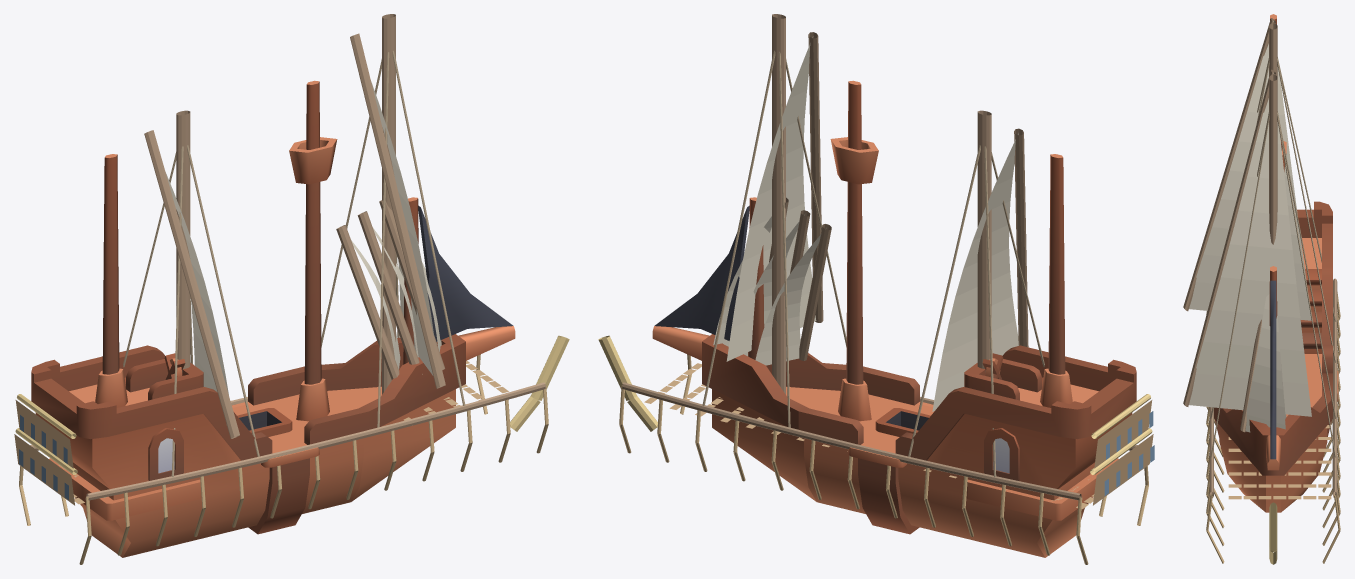
Rendered from chesapeake_schooner-custom.glb.
The picture shows the model from 3 angles, left to right: view 1: azimuth 30°, elevation 25°; view 2: azimuth 150°, elevation 25°; view 3: azimuth 270°, elevation 25°; orthographic projection. The views are drawn at different scales.
Visible parts, largest first — view 1: ship-pirate-medium, chesapeake_schooner-custom-geometry; view 2: ship-pirate-medium, chesapeake_schooner-custom-geometry; view 3: chesapeake_schooner-custom-geometry, ship-pirate-medium.
Boxes of the visible parts, bbox=[...] form: ship-pirate-medium: bbox=[31, 80, 515, 557]; chesapeake_schooner-custom-geometry: bbox=[14, 14, 569, 564]; ship-pirate-medium: bbox=[652, 80, 1136, 557]; chesapeake_schooner-custom-geometry: bbox=[598, 14, 1154, 564]; chesapeake_schooner-custom-geometry: bbox=[1183, 18, 1340, 564]; ship-pirate-medium: bbox=[1214, 14, 1338, 512].
Size of the model in its own units: 38.83 by 33 by 10.48.
Materials: 8 (1 with a texture image).
